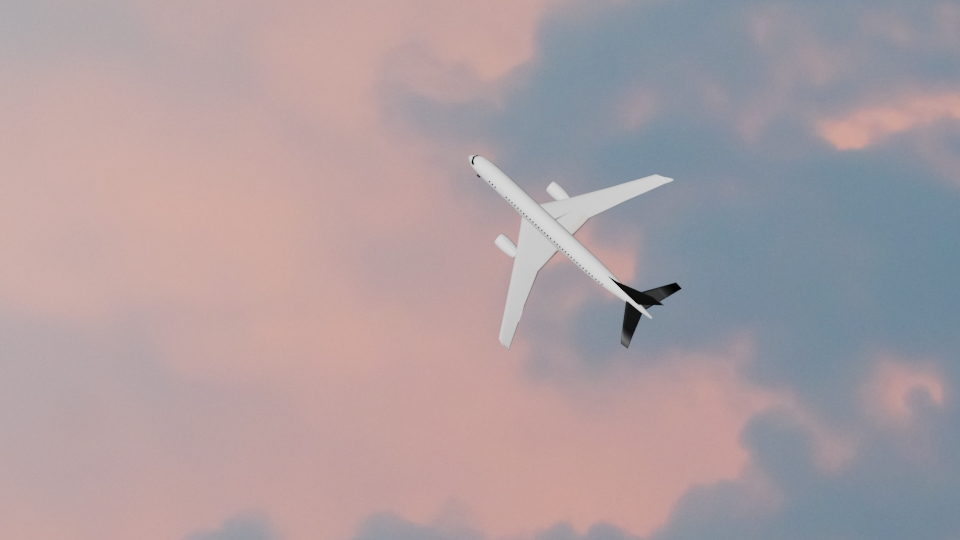plane: (467, 151, 684, 354)
